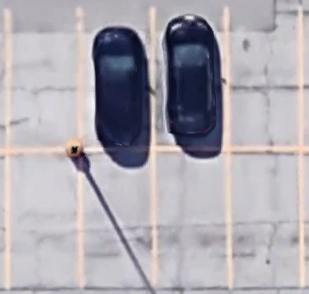Occupied: (77, 9, 154, 147), (152, 9, 227, 149)
Vacant: (80, 147, 155, 288), (7, 9, 81, 150), (227, 9, 301, 150), (155, 148, 229, 288), (7, 150, 81, 288), (229, 149, 303, 287)
